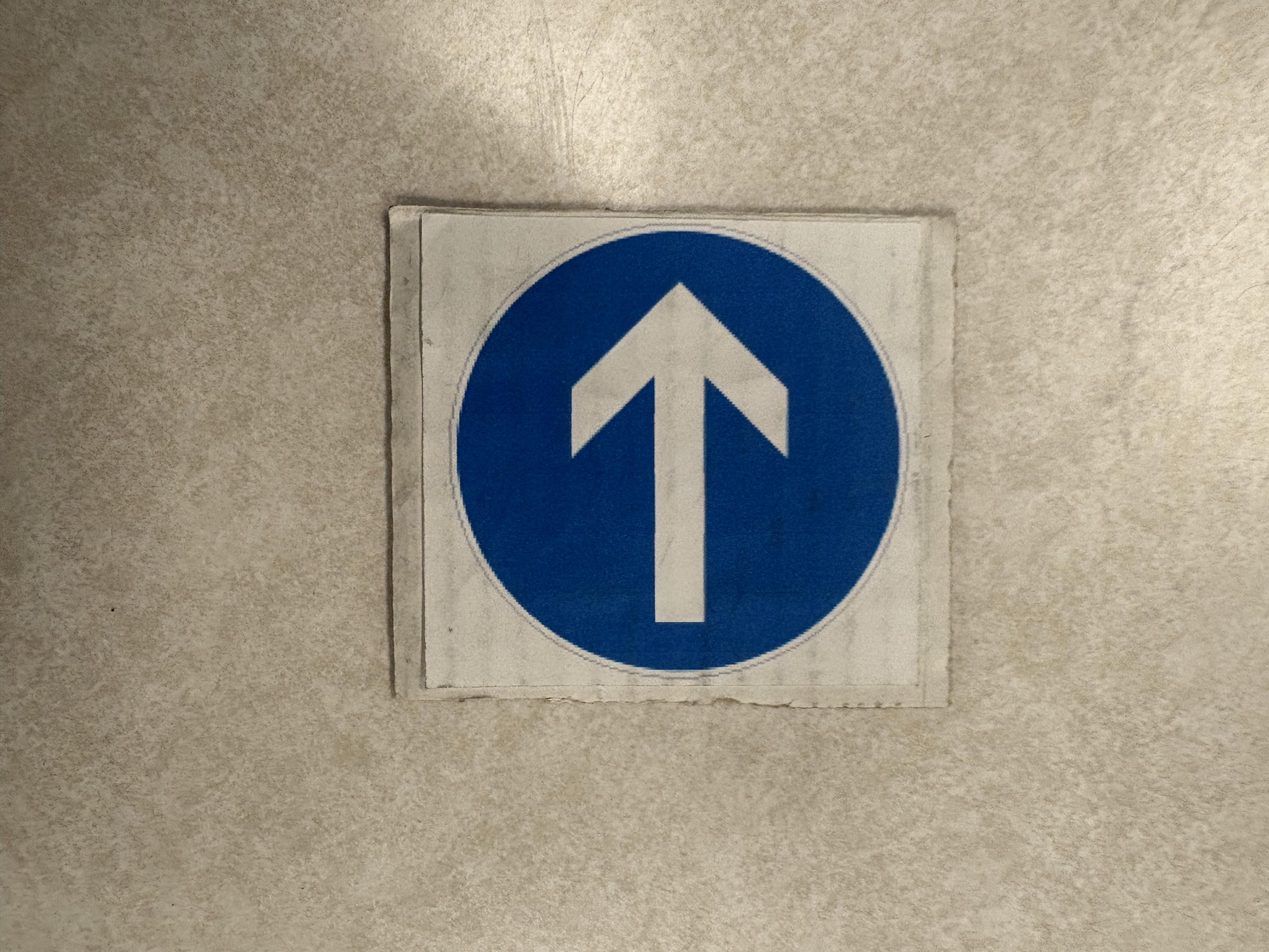Proceed Forward: (389, 208, 952, 707)
